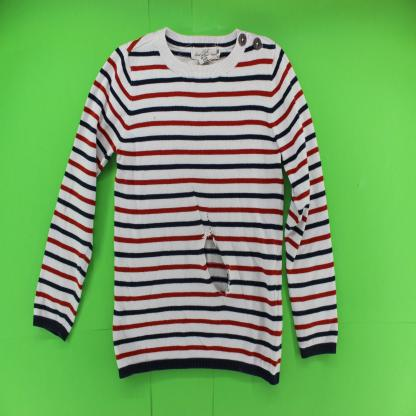hole: (199, 203, 233, 303)
